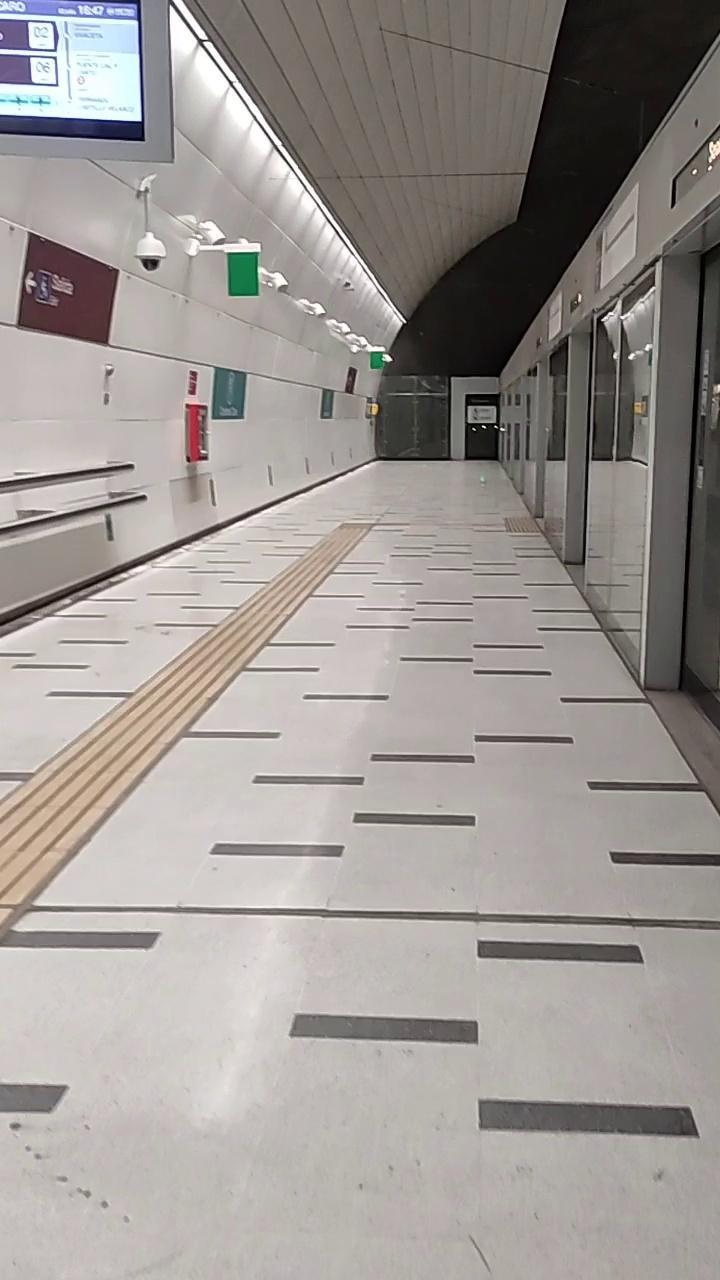handicapped symbol: (36, 272, 54, 301)
left arrow: (20, 266, 40, 297)
